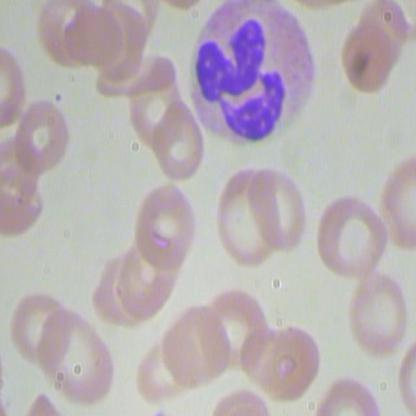RBC: (37, 303, 115, 403), (212, 164, 279, 275), (315, 185, 391, 282), (159, 302, 240, 389), (131, 179, 202, 274), (244, 166, 309, 255), (344, 272, 410, 356), (7, 281, 67, 366), (14, 91, 74, 174), (150, 101, 207, 179), (337, 19, 395, 92)
WBC: (180, 1, 325, 146)
